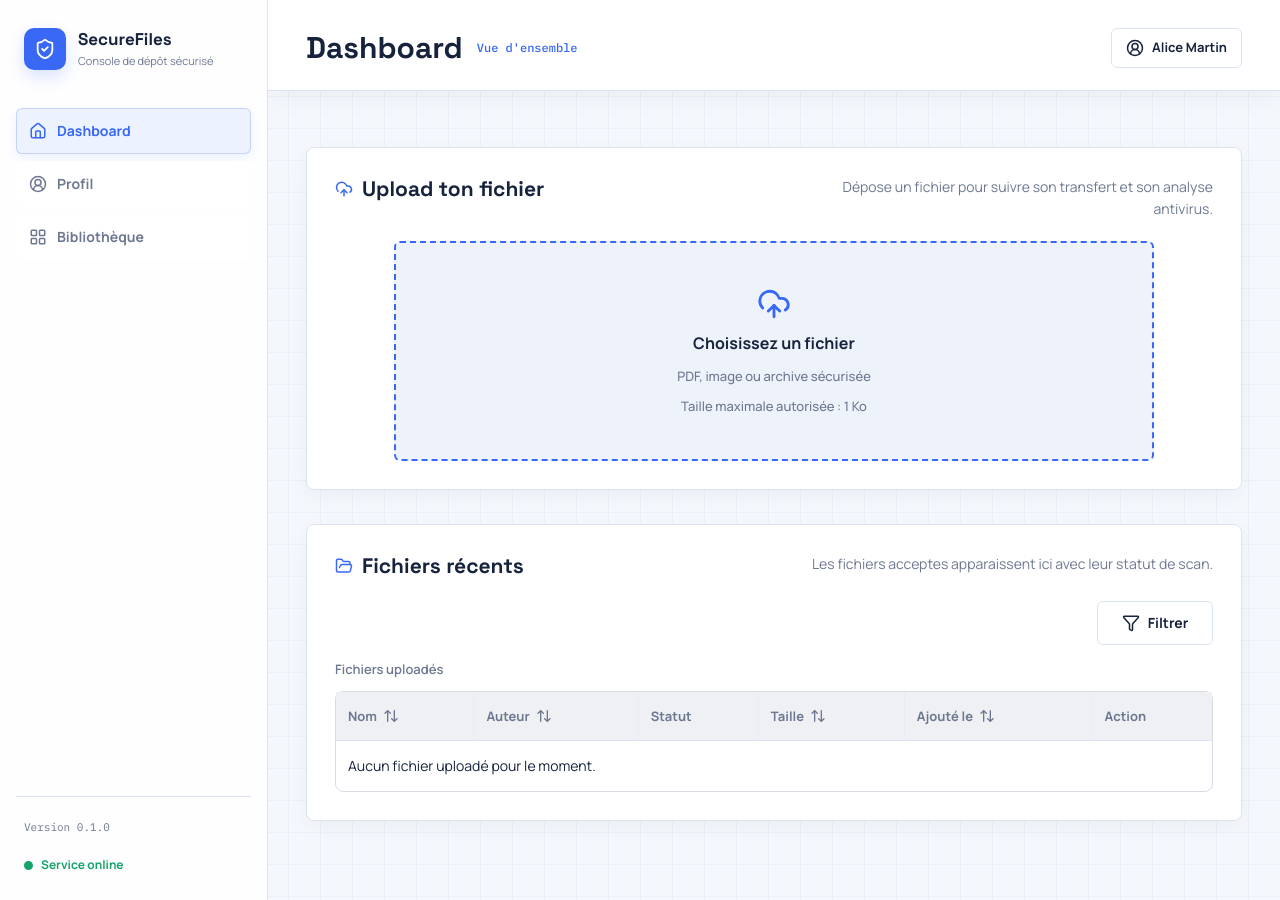
Scenario: App › loads the authenticated account and displays cumulative roles
Expected: the button "Alice Martin" is shown, x1=1111 y1=28 x2=1242 y2=68
Expected: the link "Bibliothèque" is shown, x1=16 y1=214 x2=251 y2=260
Click the link "Profil". click: point(134, 184)
box: x1=16 y1=161 x2=251 y2=207
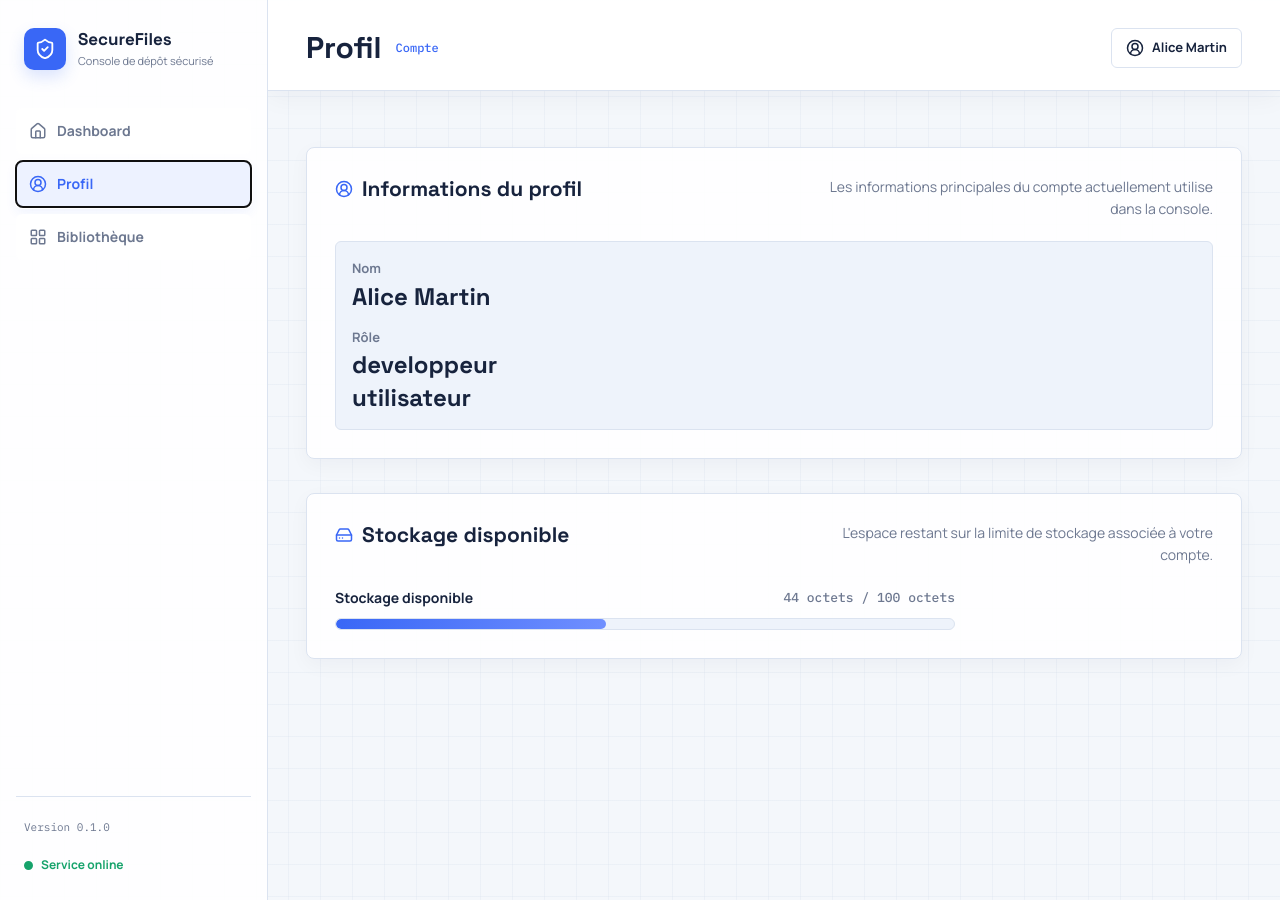
Expected: the text "developpeur" is shown, x1=352 y1=350 x2=497 y2=380
Expected: the text "utilisateur" is shown, x1=352 y1=382 x2=471 y2=413
